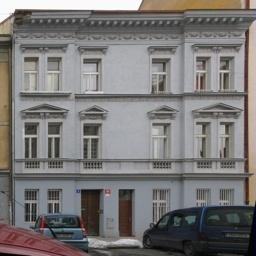building: (12, 0, 249, 231)
